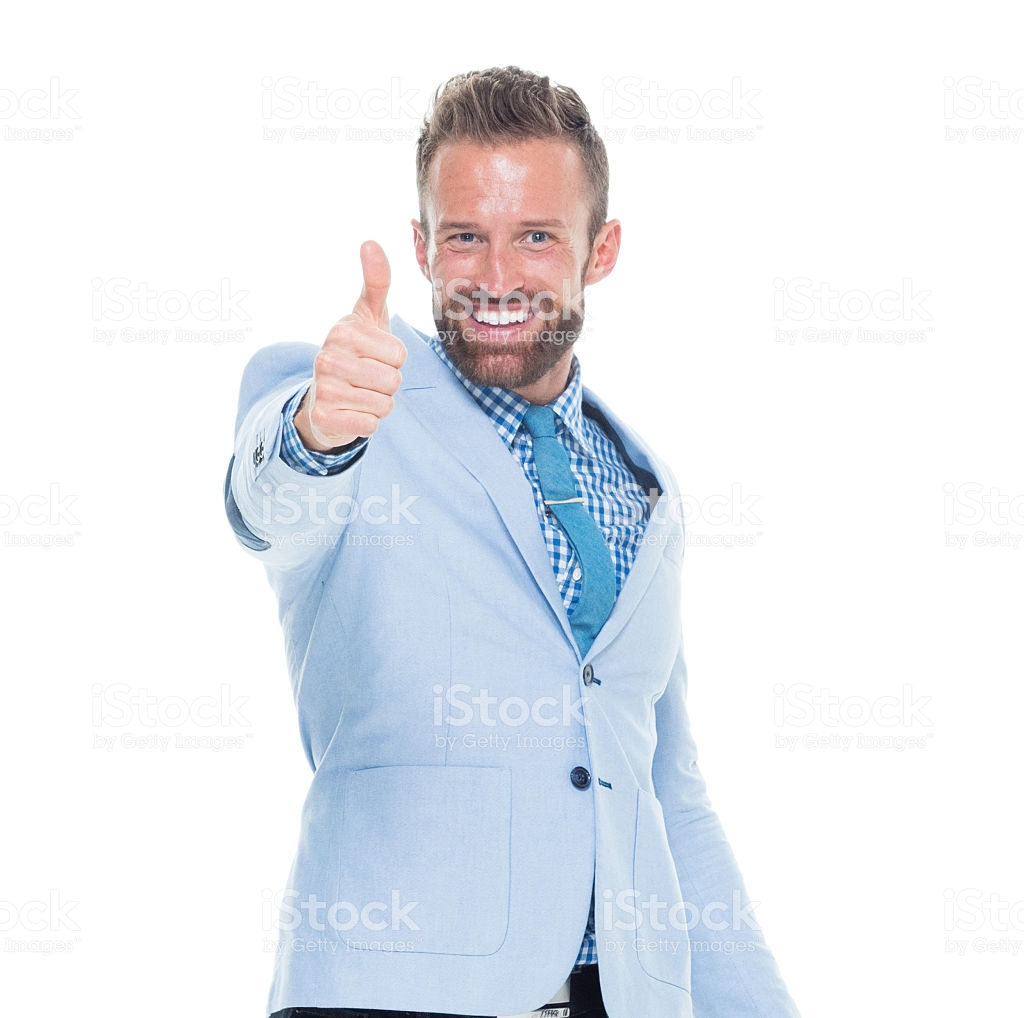thumbsup: (305, 237, 407, 449)
